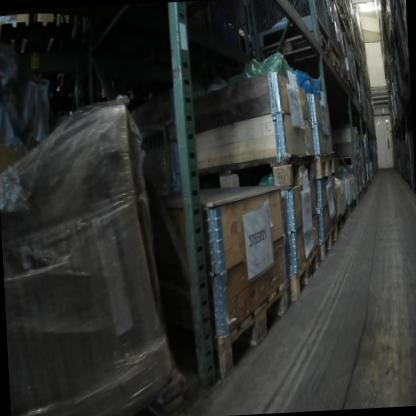pallet: (171, 279, 294, 384), (172, 146, 319, 203), (250, 23, 330, 76), (0, 15, 73, 73), (110, 368, 190, 416), (284, 236, 325, 306), (300, 46, 343, 82), (318, 221, 342, 273), (331, 207, 349, 240), (316, 150, 337, 174), (336, 153, 361, 169), (336, 68, 351, 93), (345, 194, 356, 221), (350, 85, 360, 109), (350, 190, 363, 208), (386, 7, 394, 28)
stillage: (244, 0, 328, 62), (125, 109, 173, 208), (207, 0, 261, 67), (392, 22, 410, 111), (322, 0, 343, 65), (401, 130, 414, 196), (360, 132, 370, 197), (382, 30, 395, 78), (362, 78, 370, 125), (366, 141, 372, 188)
